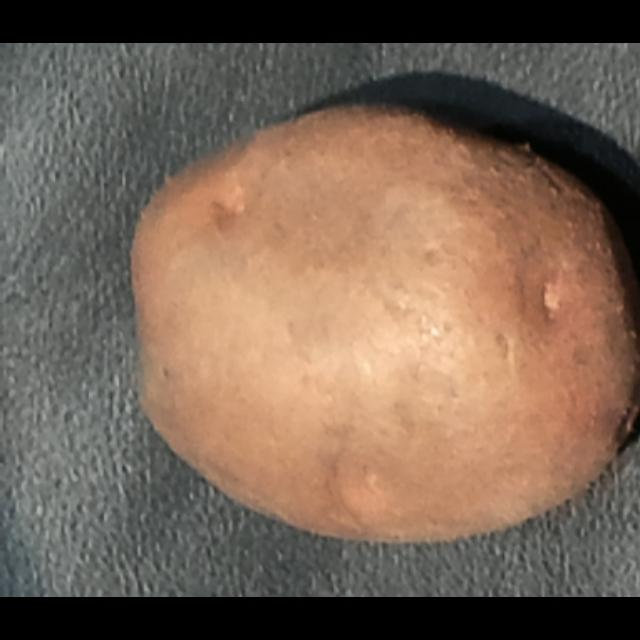Diseased-fungal potato: (110, 81, 640, 553)
